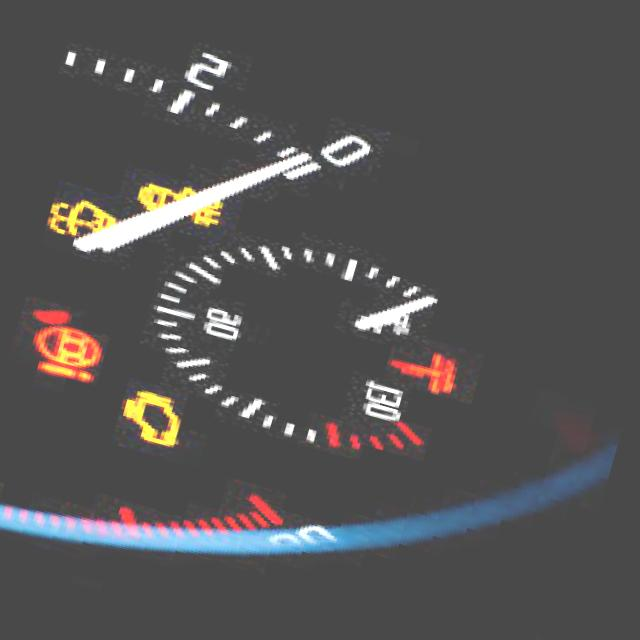kontrolka: (16, 309, 116, 392), (128, 168, 229, 238), (108, 378, 196, 452)
